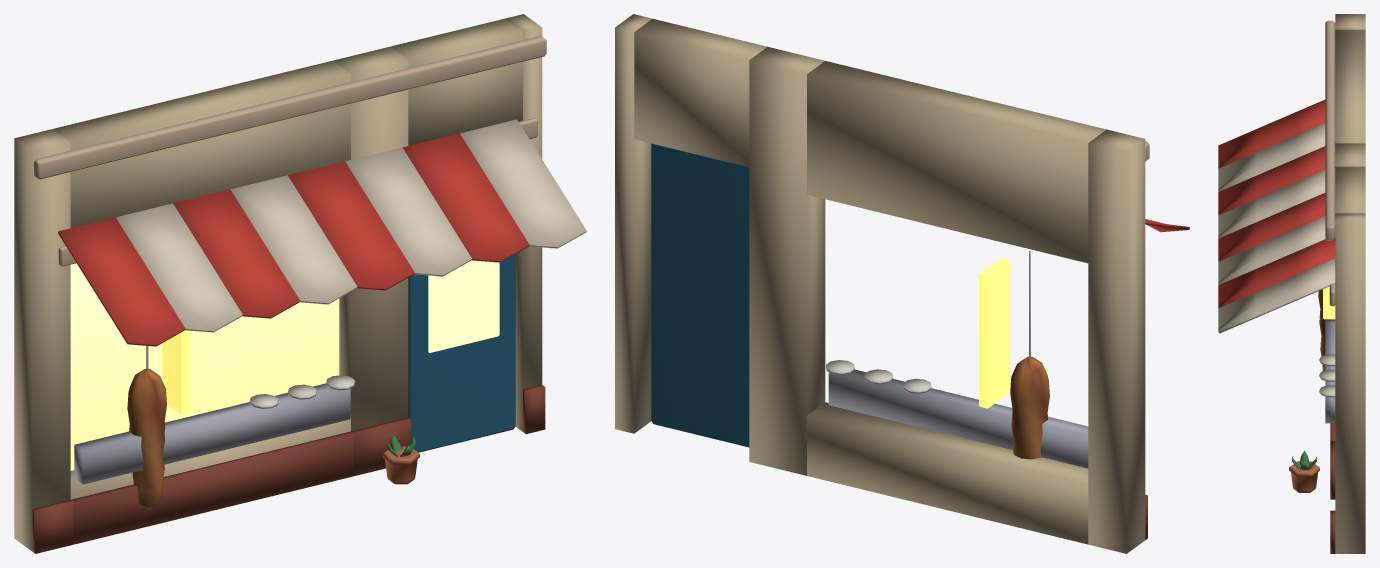
Rendered from grill_front.glb.
3 renders of one model, left to right at view 1: azimuth 30°, elevation 25°; view 2: azimuth 150°, elevation 25°; view 3: azimuth 270°, elevation 25°, orthographic. The views are drawn at different scales.
Visible parts, largest first — view 1: grill_front, door, spit; view 2: grill_front, door, spit; view 3: grill_front, spit.
Boxes of the visible parts, <box> form: grill_front: <box>14,14,586,553</box>; door: <box>408,254,515,452</box>; spit: <box>127,346,166,508</box>; grill_front: <box>615,14,1189,553</box>; door: <box>651,143,749,447</box>; spit: <box>1010,251,1049,459</box>; grill_front: <box>1218,14,1365,553</box>; spit: <box>1318,289,1335,370</box>.
Bounding box in the file's own units: 4 × 3 × 1.21.
